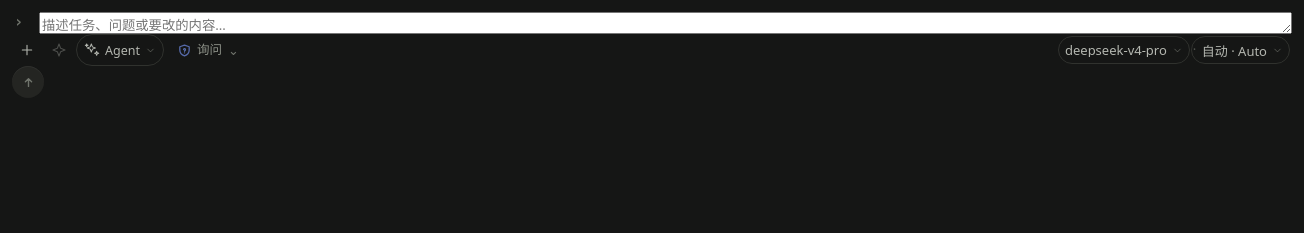
refining a prompt before it is sent › leaves the draft alone when the rewrite is discarded
The width and height of the screenshot is (1304, 233).
In the dropdown with placeholder "描述任务、问题或要改的内容…": (666, 23) [39,12,1292,34], type "draft"
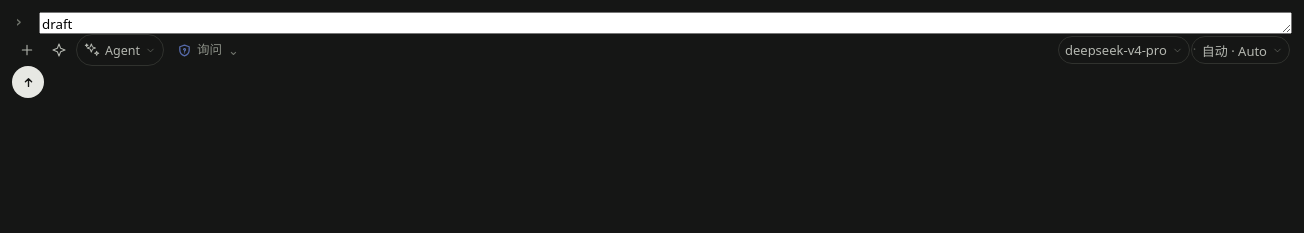
Click the button named "优化提示词": (58, 50) [44,36,73,64]
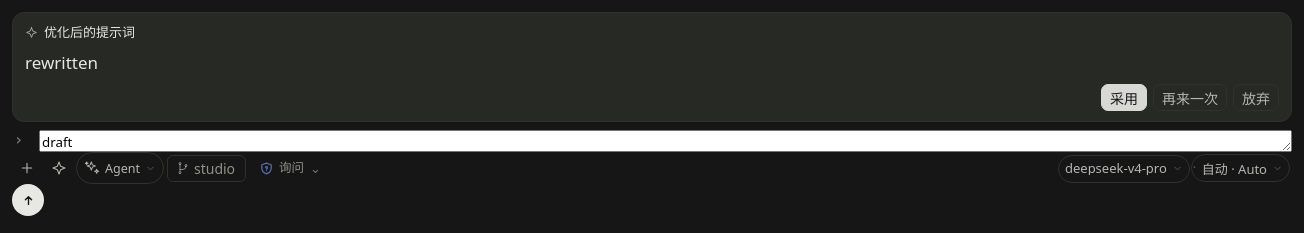
expect the text "rewritten" is shown: met, box [25,51,98,74]
Click the button "放弃": (1256, 98) [1233,84,1279,111]
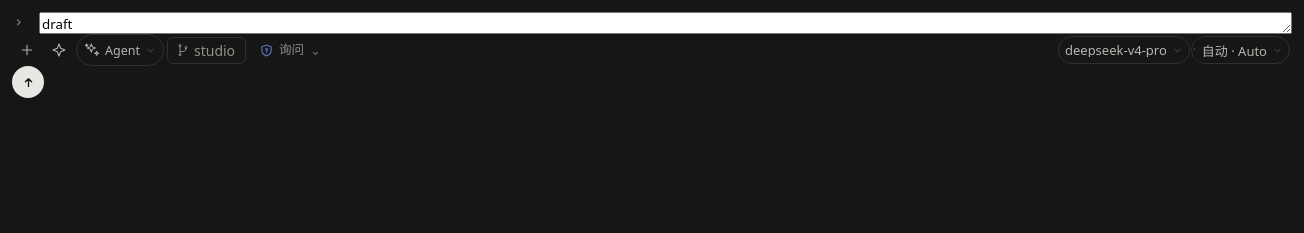
expect the element with class "refine-card" is gone: met
